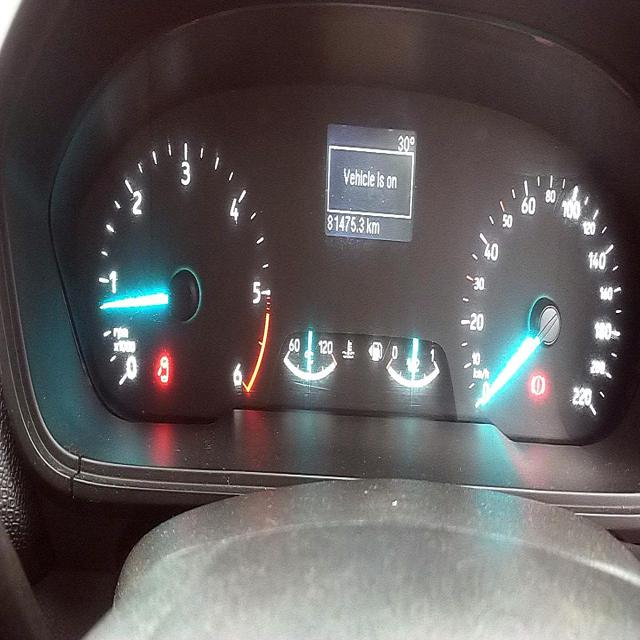odometer: (327, 210, 365, 236)
